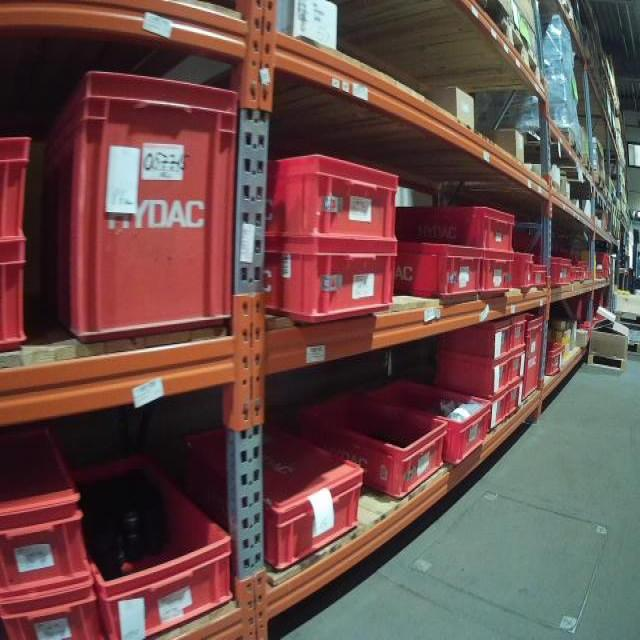pallet: (349, 2, 511, 66), (515, 120, 582, 176), (500, 29, 547, 90)
small_load_carrier: (30, 69, 242, 343), (71, 428, 232, 636), (186, 439, 361, 562), (298, 382, 450, 499), (2, 424, 101, 596), (262, 147, 403, 243), (364, 372, 498, 469), (261, 243, 403, 327), (391, 198, 520, 253), (4, 574, 106, 636), (1, 125, 48, 251), (396, 236, 482, 303), (0, 242, 38, 355), (434, 312, 515, 361), (437, 353, 516, 393), (520, 312, 547, 407), (475, 254, 519, 298), (486, 392, 515, 426), (510, 311, 534, 349), (546, 339, 570, 375), (546, 251, 571, 285), (509, 345, 530, 385), (513, 248, 532, 291), (506, 379, 525, 419), (534, 262, 548, 293)
